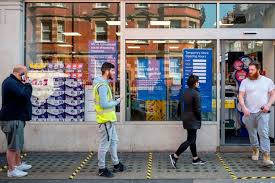Good: (1, 61, 127, 177), (90, 62, 207, 177), (168, 62, 275, 169)
